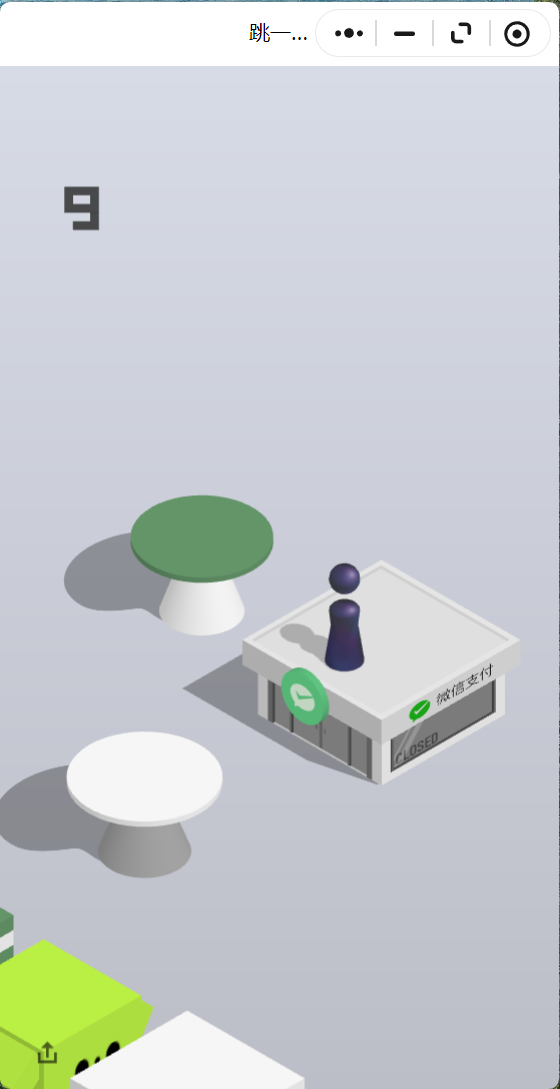piece: (329, 563, 360, 667)
target: (130, 494, 274, 577)
